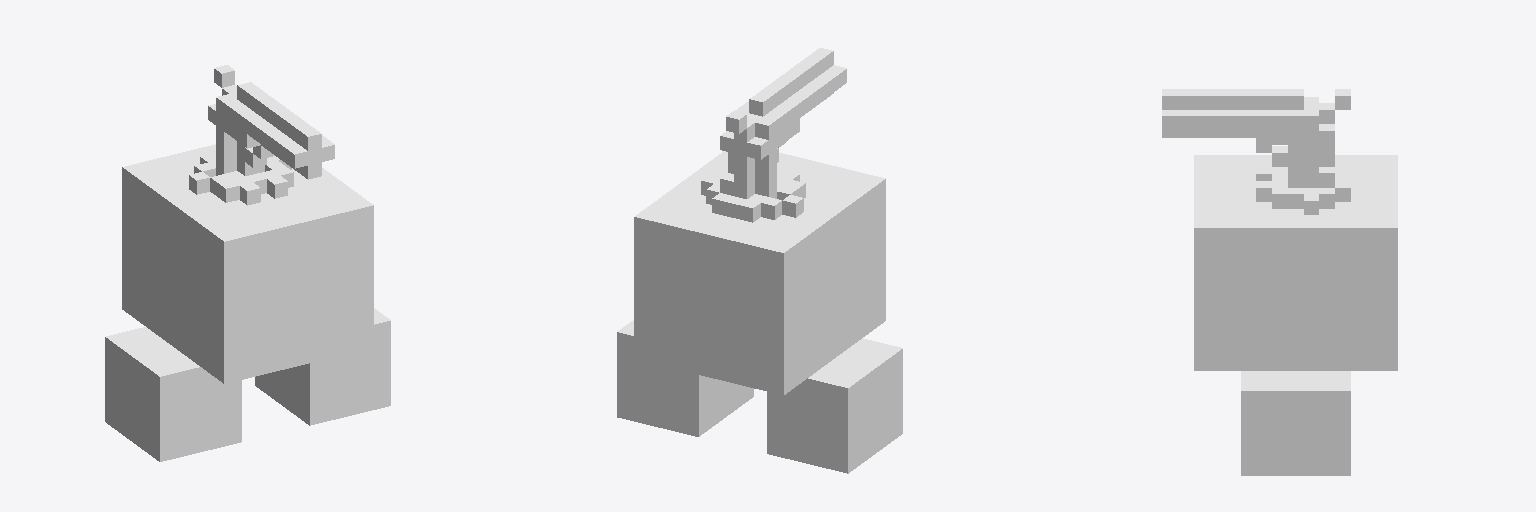
Rendered from snowball.obj.
3 views of the same model, side by side, from view 1: azimuth 30°, elevation 25°; view 2: azimuth 150°, elevation 25°; view 3: azimuth 270°, elevation 25° (orthographic).
Parts seen in each view (by area): view 1: object 1; view 2: object 1; view 3: object 1.
Part boxes in pixels (left/top/right/bottom): object 1: left=105, top=65, right=390, bottom=461; object 1: left=617, top=48, right=902, bottom=473; object 1: left=1162, top=89, right=1397, bottom=475.
Bounding box in the file's own units: 1.7 × 2.3 × 1.5.